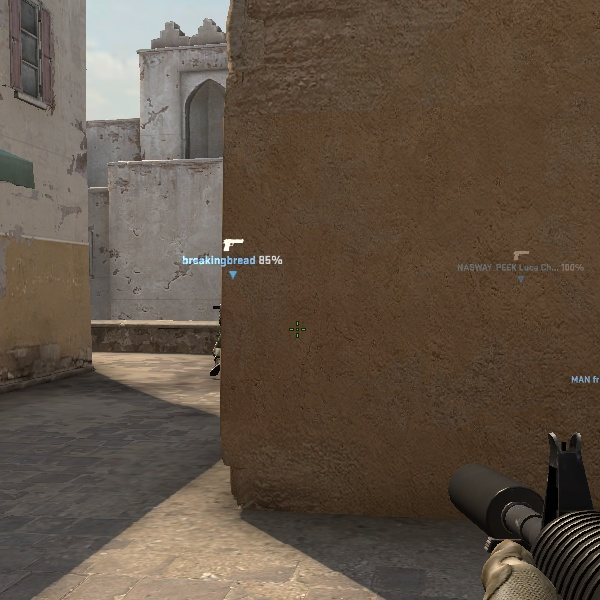ct_body: (204, 303, 225, 380)
